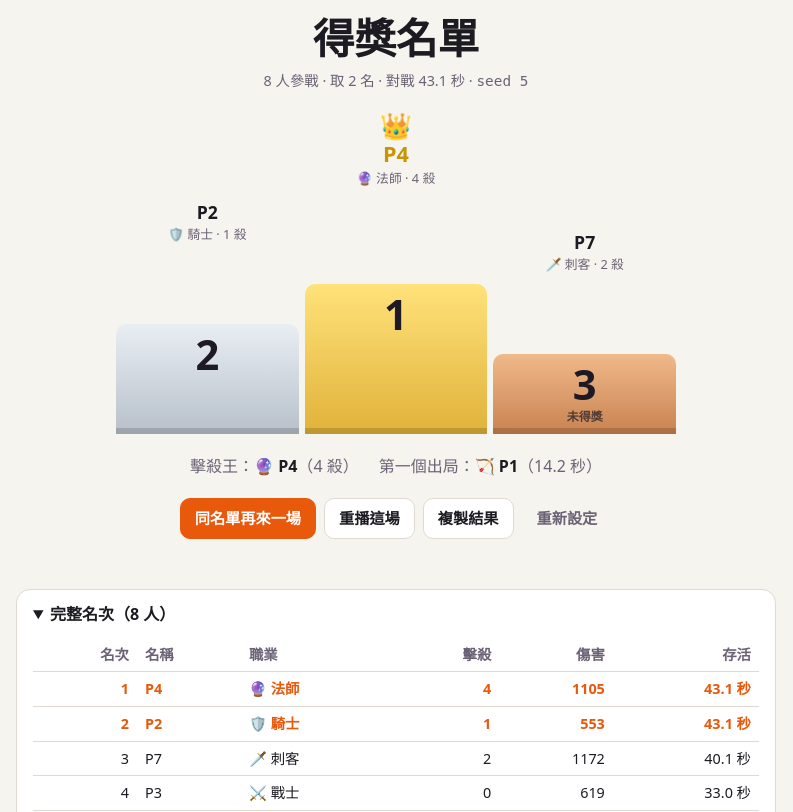
Test: ResultScreen › copies the result text
The image size is (793, 812).
Click the button "複製結果" at [468, 519], box x1=423 y1=498 x2=514 y2=539
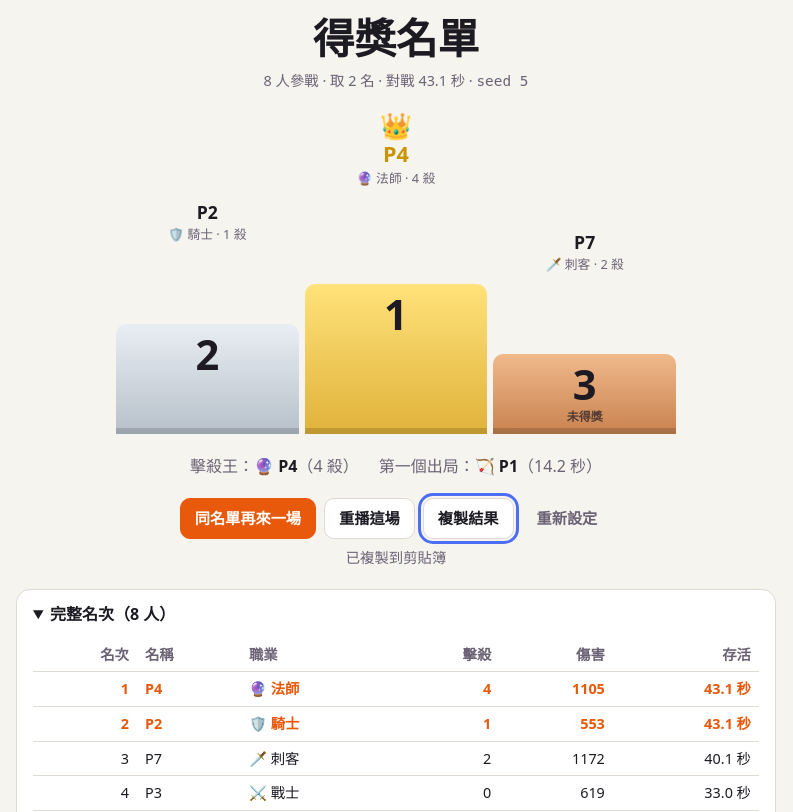
Now the text "已複製到剪貼簿" is shown, box x1=346 y1=548 x2=446 y2=567
